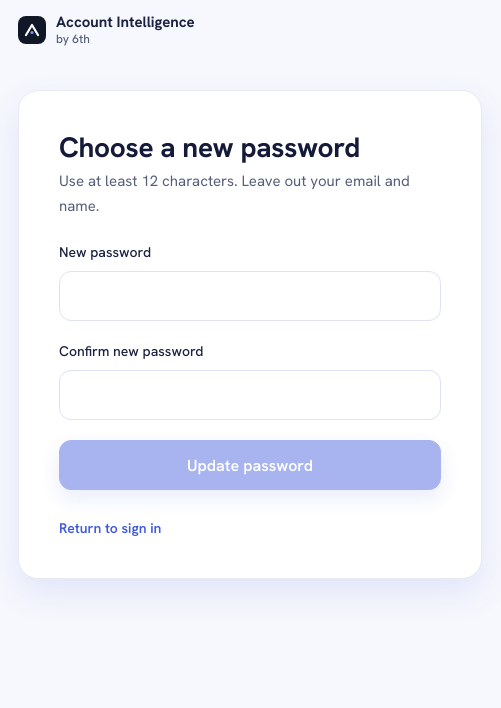
Test: reset password explains a 422 in plain words
The image size is (501, 708).
Type "a-long-password-12" into the password field labelled "New password".
click(250, 296); type("a-long-password-12")  # box [59,271,441,321]
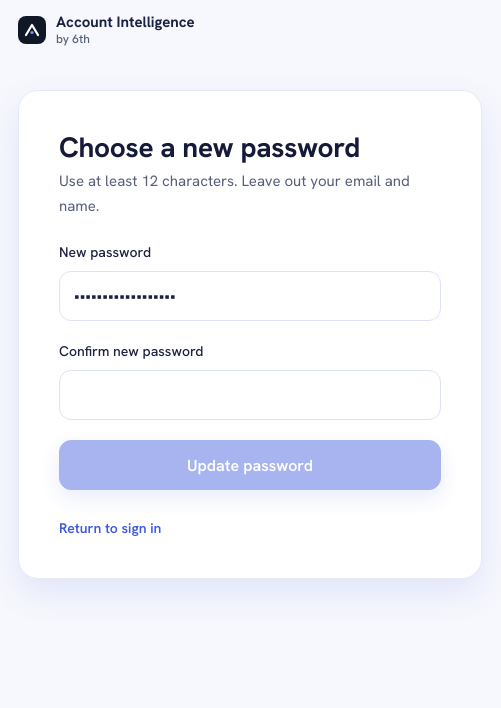
Type "a-long-password-12" into the password field labelled "Confirm new password".
click(250, 395); type("a-long-password-12")  # box [59,370,441,420]
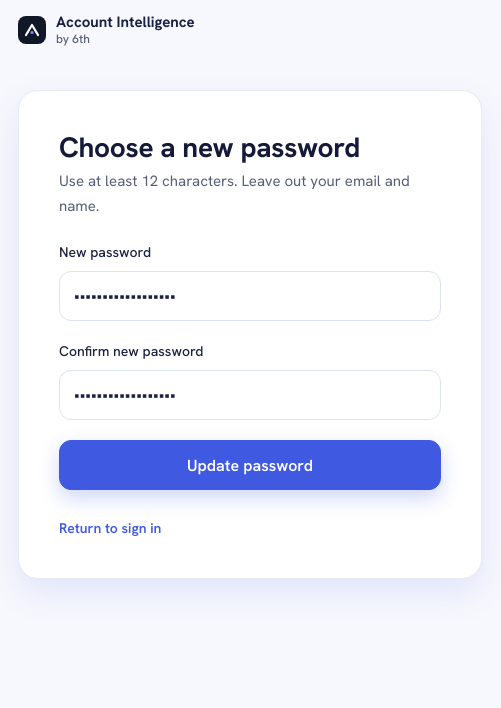
expect the button "Update password" is enabled: met
Click the button "Update password".
click(250, 465)  # box [59,440,441,490]
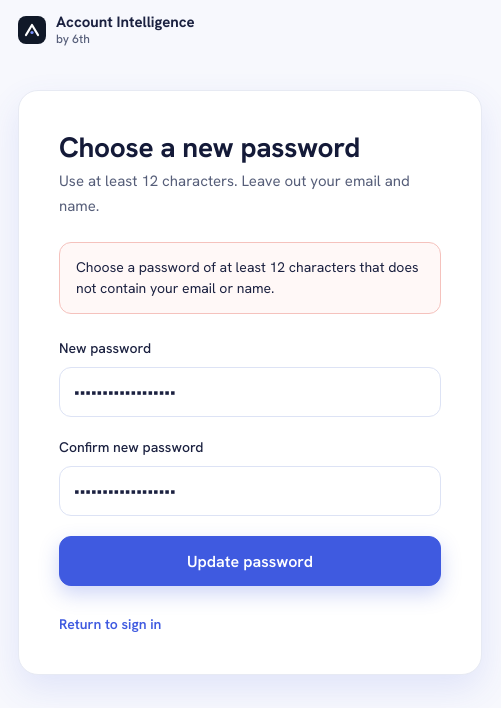
expect the message shows "Choose a password of at least 12 characters": met, box [76,258,419,297]
